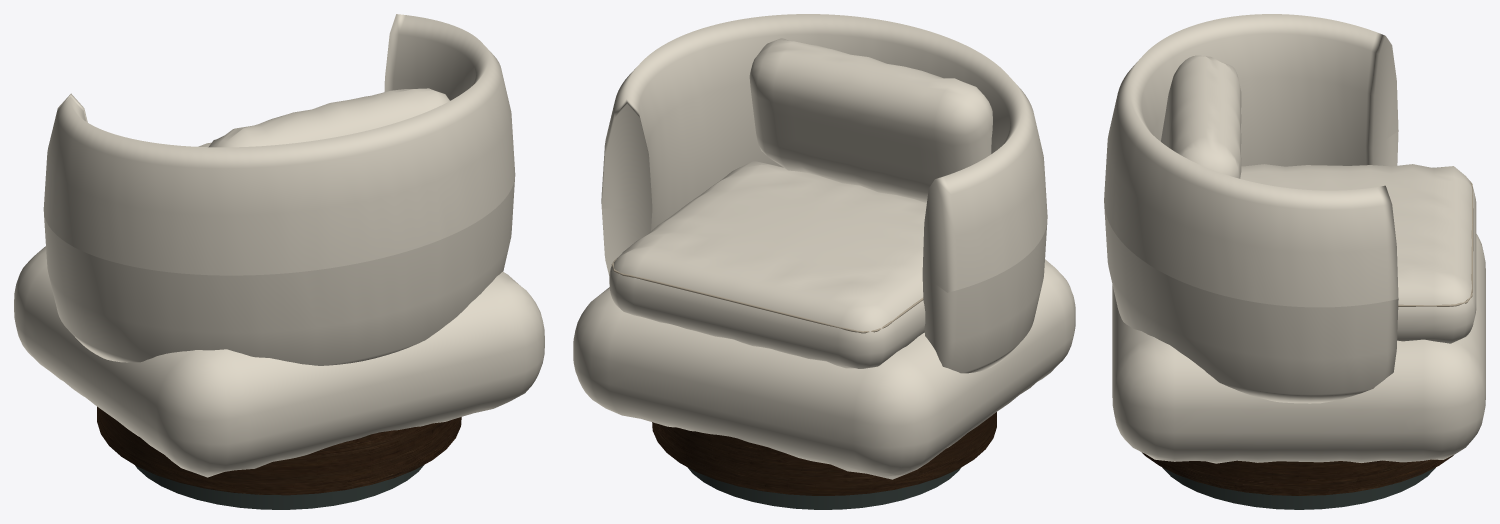
Rendered from lounge-barrel-chair.glb.
3 renders of one model, left to right at view 1: azimuth 30°, elevation 25°; view 2: azimuth 150°, elevation 25°; view 3: azimuth 270°, elevation 25°, orthographic. The views are drawn at different scales.
Visible parts, largest first — view 1: linen_surfaces, walnut_surfaces, steel_surfaces; view 2: linen_surfaces, walnut_surfaces, steel_surfaces, welt_surfaces; view 3: linen_surfaces, walnut_surfaces, steel_surfaces.
Boxes of the visible parts, x1,y1,x2,y2 form: linen_surfaces: (14,14,544,477); walnut_surfaces: (97,406,461,495); steel_surfaces: (135,465,423,509); linen_surfaces: (573,14,1075,479); walnut_surfaces: (652,412,996,495); steel_surfaces: (687,467,960,509); welt_surfaces: (611,258,923,333); linen_surfaces: (1104,14,1485,463); walnut_surfaces: (1142,452,1453,495); steel_surfaces: (1162,467,1435,509).
Size of the model in its own units: 0.965 by 0.83 by 0.7975.
Materials: 4 (1 with a texture image).
